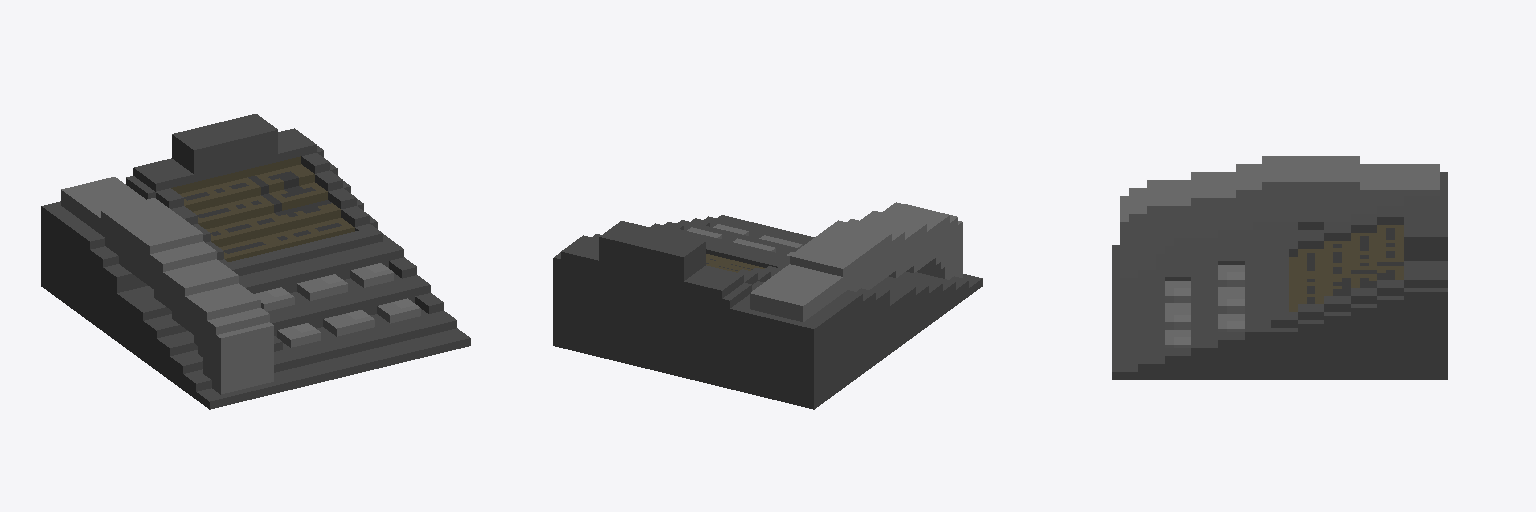
3 renders of one model, left to right at view 1: azimuth 30°, elevation 25°; view 2: azimuth 150°, elevation 25°; view 3: azimuth 270°, elevation 25°, orthographic.
Parts seen in each view (by area): view 1: object 1; view 2: object 1; view 3: object 1.
Part boxes in pixels (x1,y1,x2,y2): object 1: (41,114,470,409); object 1: (553,202,982,409); object 1: (1112,156,1447,379).
Size of the model in its own units: 3.4 by 1.5 by 3.8.
Materials: 1 (1 with a texture image).